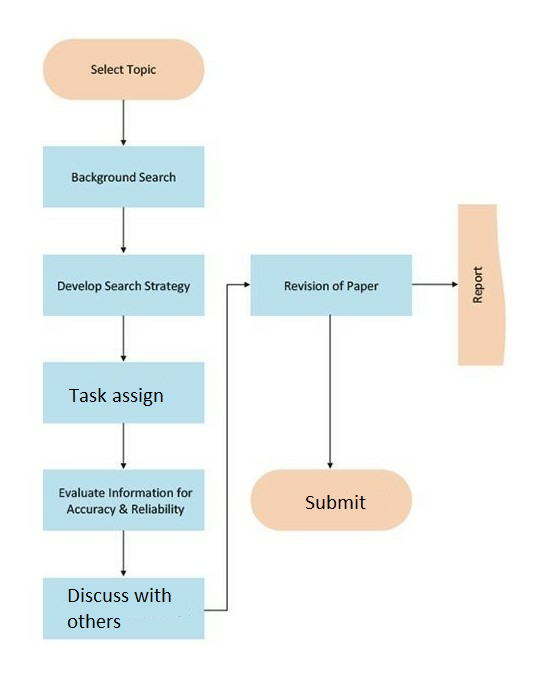arrow: (201, 279, 254, 617), (324, 314, 335, 471), (116, 202, 129, 254), (118, 421, 130, 472), (118, 312, 129, 365), (412, 278, 462, 289), (116, 529, 127, 576), (119, 97, 129, 147)
process: (245, 250, 415, 320), (38, 357, 209, 426), (37, 573, 208, 641), (40, 142, 208, 211), (38, 250, 208, 318), (39, 465, 209, 533), (456, 199, 511, 367)
terminator: (245, 465, 415, 533), (38, 37, 208, 104)
text: (65, 583, 175, 631), (53, 485, 191, 518), (53, 278, 191, 294), (65, 386, 166, 407), (283, 276, 378, 296), (70, 170, 181, 186), (88, 59, 159, 79), (303, 492, 369, 513), (467, 262, 485, 307)
